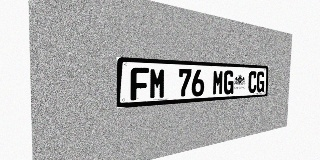6: (191, 69, 205, 97)
7: (177, 69, 192, 98)
C: (248, 71, 257, 93)
F: (131, 67, 149, 100)
G: (223, 70, 234, 95), (256, 71, 265, 93)
M: (149, 68, 166, 99), (212, 70, 224, 95)
